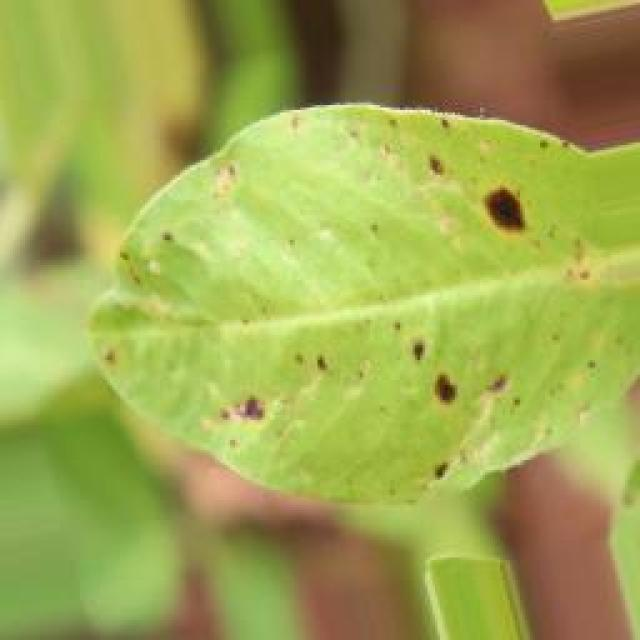Yellowish: (63, 75, 640, 580)
